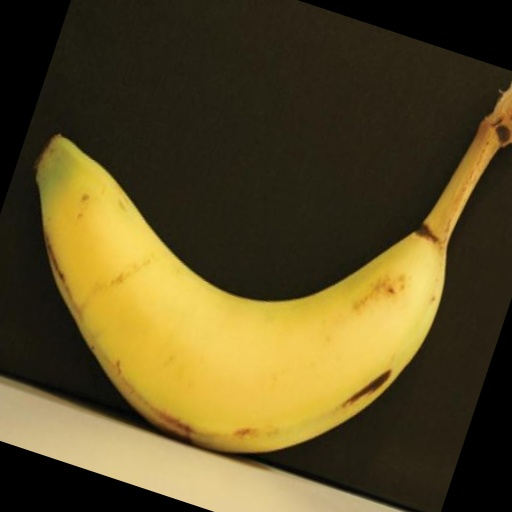fruit: (0, 51, 89, 303)
